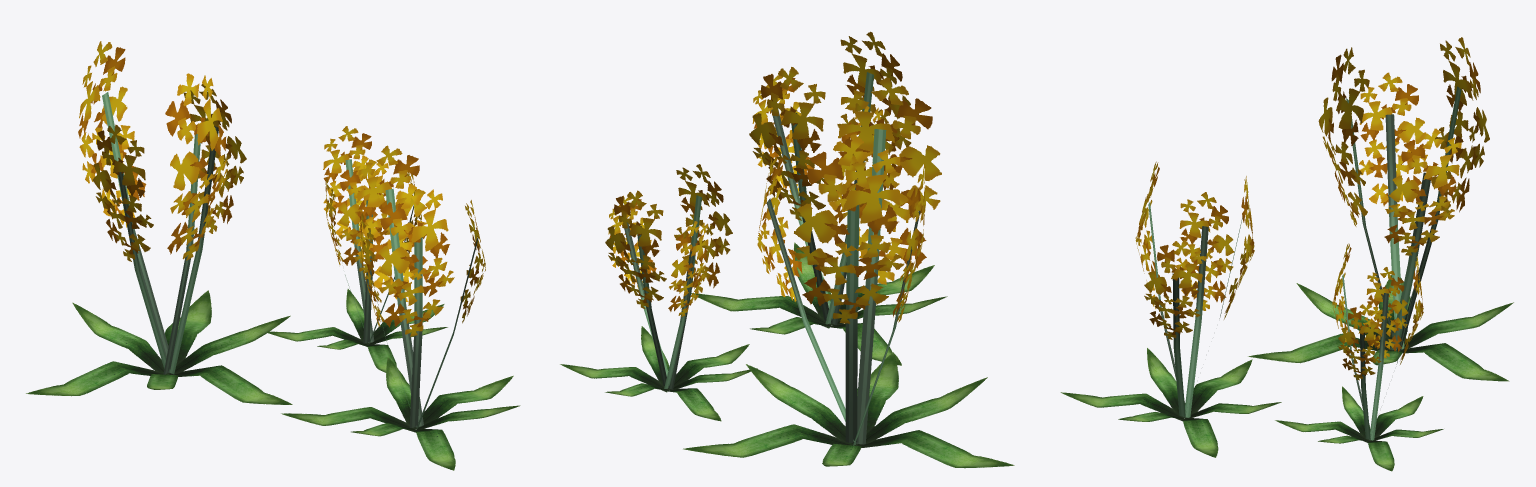
File: Yellow_flower.fbx
The picture shows the model from 3 angles, left to right: view 1: azimuth 30°, elevation 25°; view 2: azimuth 150°, elevation 25°; view 3: azimuth 270°, elevation 25°; orthographic projection. The views are drawn at different scales.
Visible parts, largest first — view 1: Yellow_flower; view 2: Yellow_flower; view 3: Yellow_flower.
Boxes of the visible parts, box(x1,y1,x2,y2) form: Yellow_flower: box(26, 41, 520, 470); Yellow_flower: box(560, 31, 1014, 468); Yellow_flower: box(1060, 37, 1513, 471).
Size of the model in its own units: 540 by 405 by 546.
